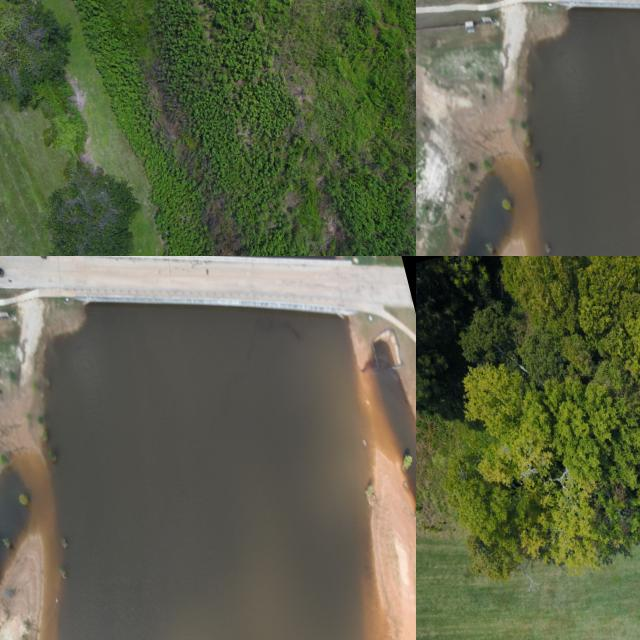fire: (45, 302, 370, 640), (528, 7, 640, 256), (374, 368, 416, 501), (458, 173, 511, 256)
